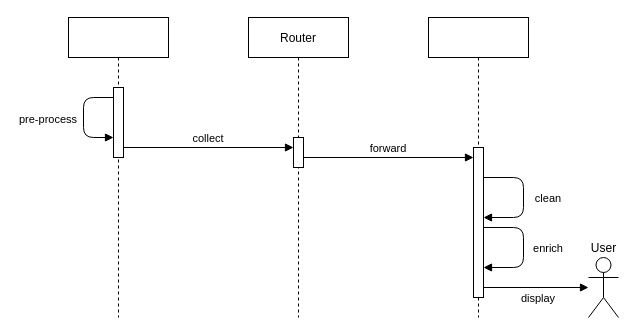
The diagram is 636 pixels wide and 335 high, and some of its shapes have lost their labels. The shapes that lost their labels are listed below. From the top down, each one's centre as x and y in pixels, then its label:
At (118,167): "Sensor".
At (478,167): "Back-end".
